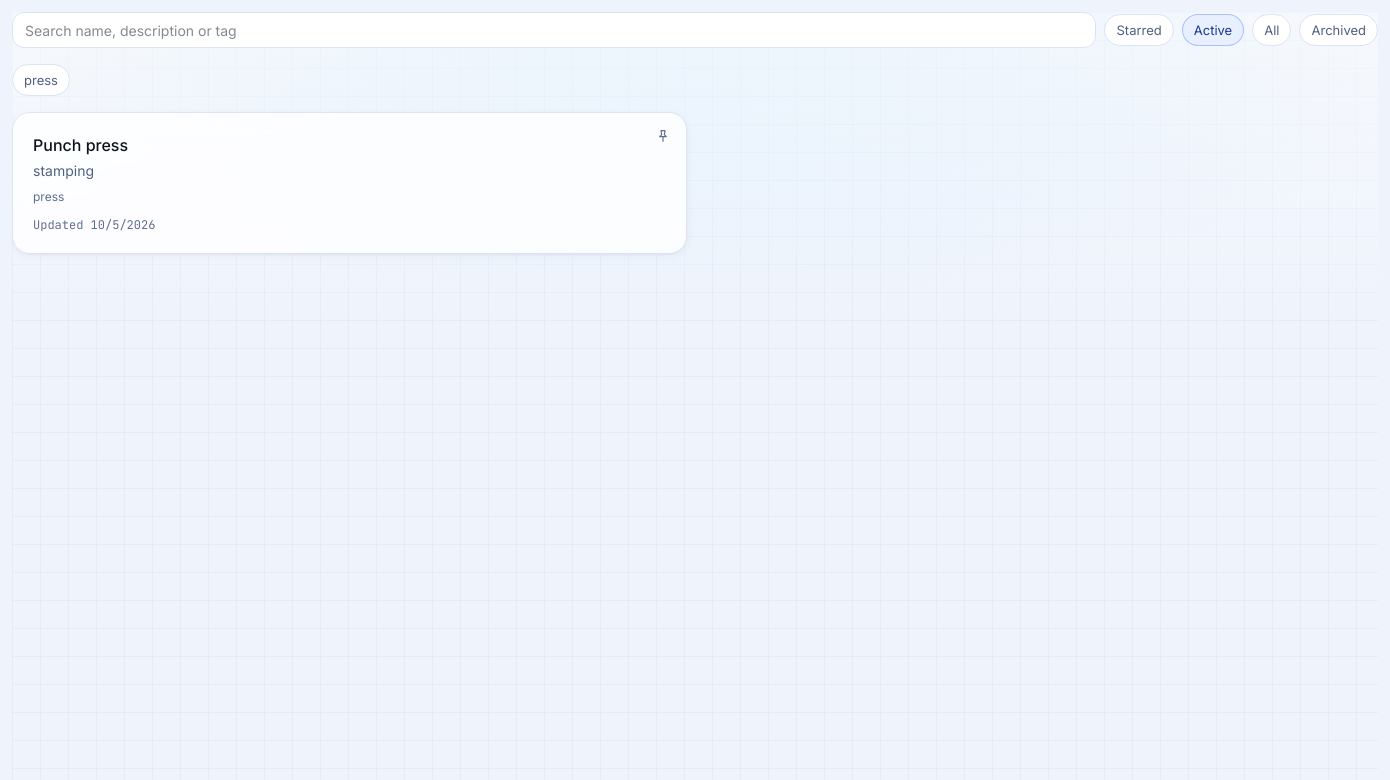
Test: ProjectBrowser › says nothing is archived rather than showing a loading state
The image size is (1390, 780).
Click the button "Archived": coordinates (1339, 30) [1300,14,1378,46]
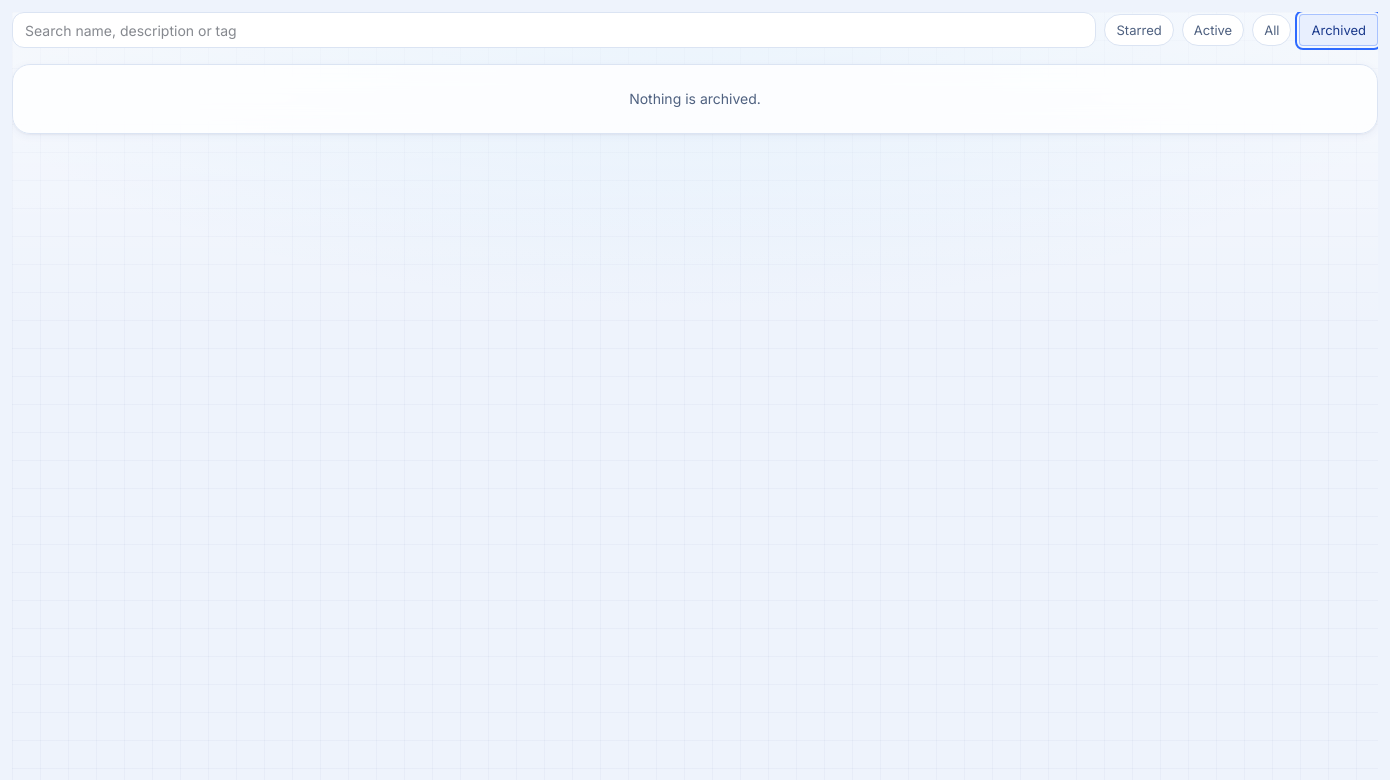
Result: the text "Nothing is archived." is shown at [12,64,1378,134]
